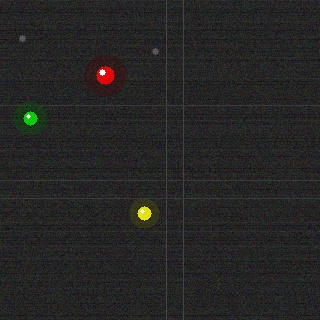green_normal: (21, 109, 39, 127)
red_fault: (94, 64, 116, 86)
yellow_warning: (135, 204, 153, 222)
